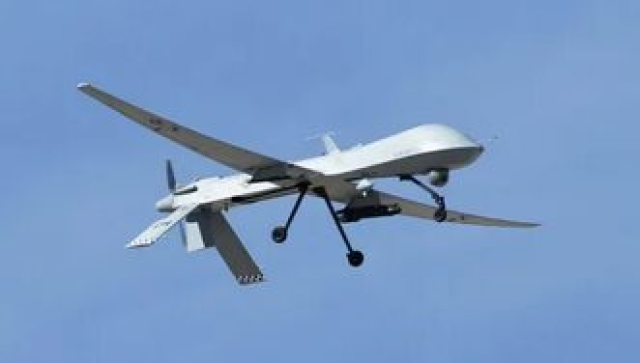military drone: (76, 82, 541, 286)
